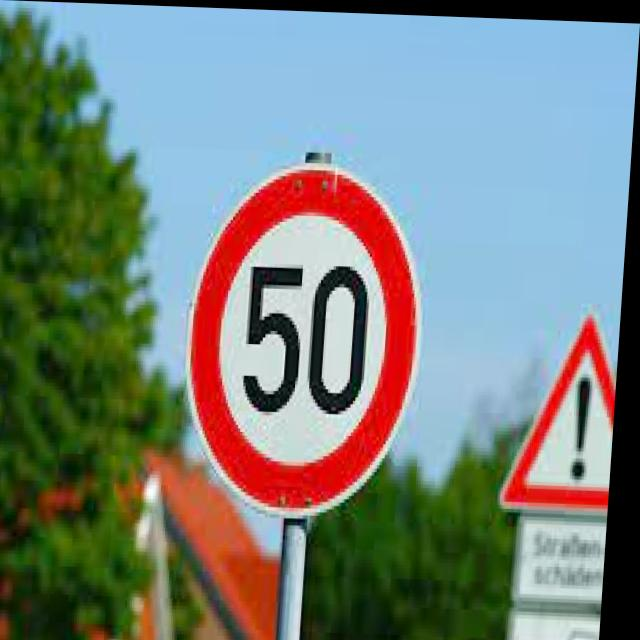SPEED_LIMIT_50: (184, 155, 434, 520)
